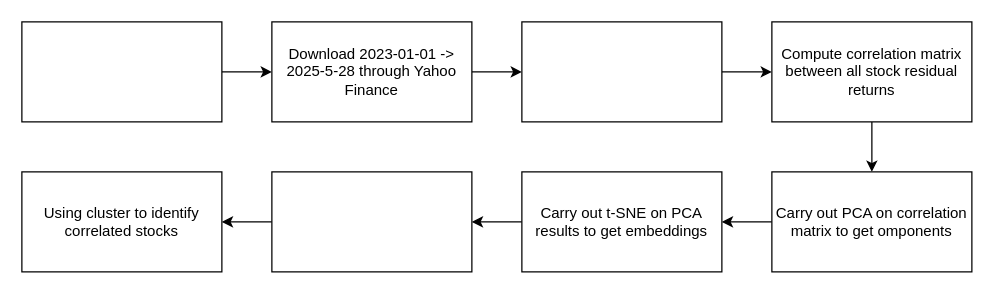
The diagram is 994 pixels wide and 294 high, and some of its shapes have lost their labels. Here are the shapes that lost their labels. From the top down, the centre of each, then its label:
(x=121, y=71): NASDAQ top 50 stocks from 11 Sectors
(x=621, y=71): Calculate all residual returns compared to S&P 500
(x=371, y=221): Carry out K-Means on t-SNE results to get cluster labels
